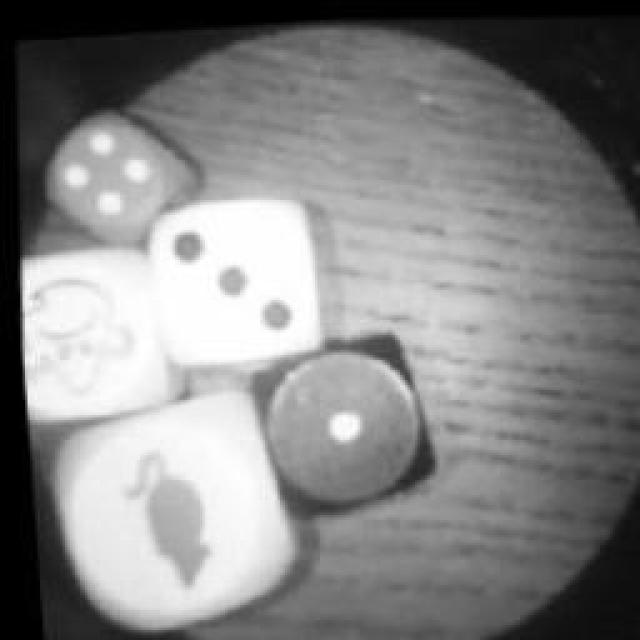dice_1: (230, 314, 445, 528)
dice_3: (120, 179, 328, 386)
dice_4: (26, 81, 206, 256)
